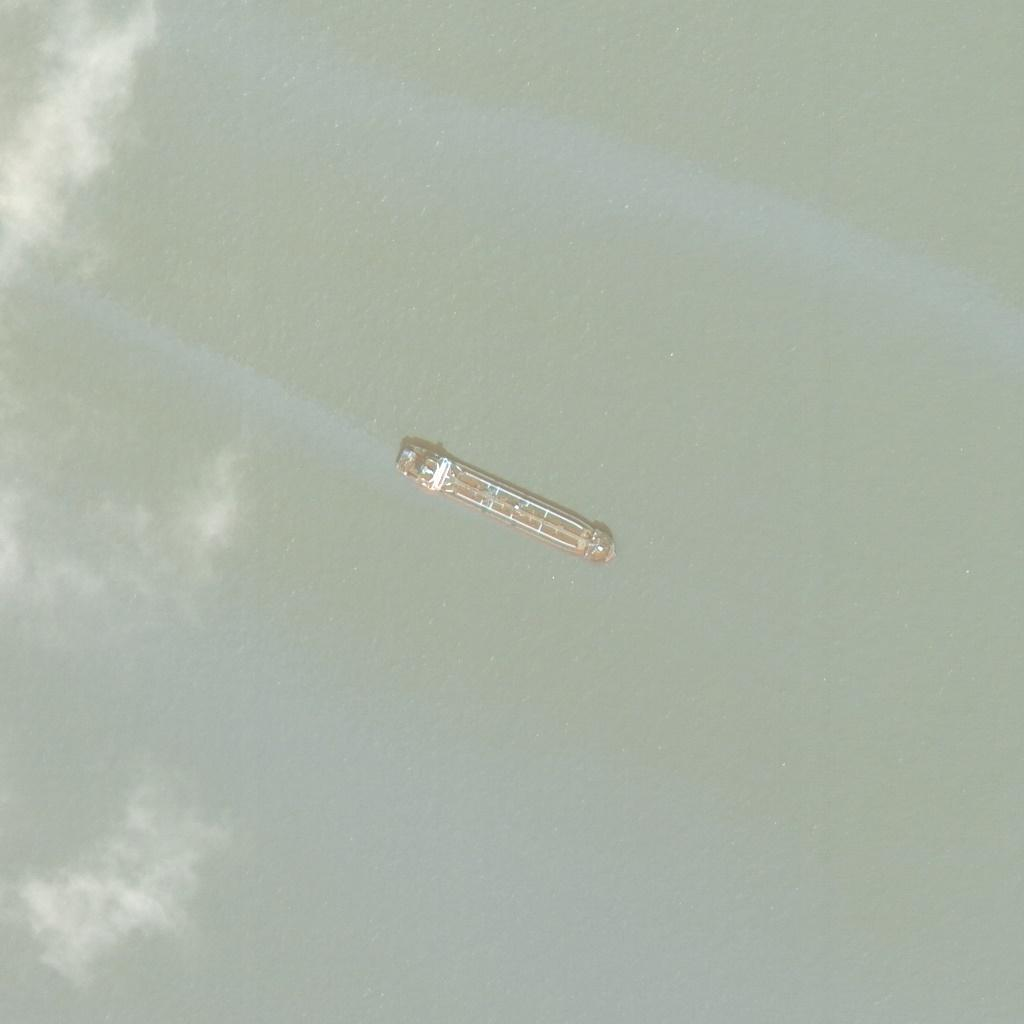ship: (510, 442, 513, 554)
